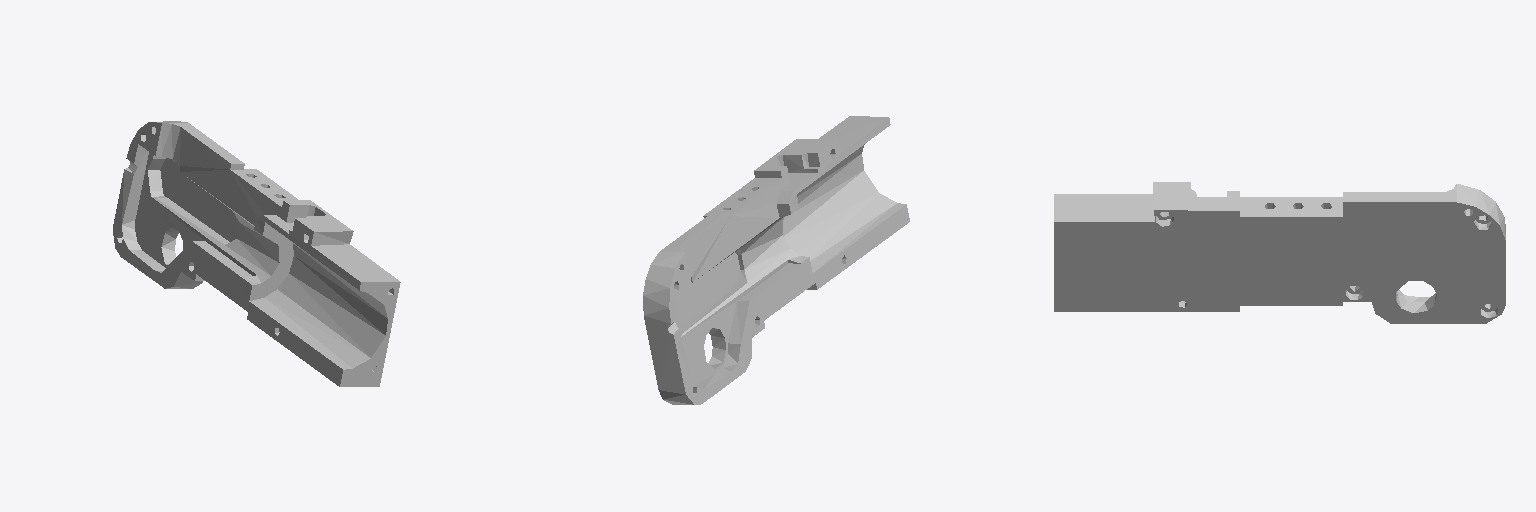
File: Gehaeuse_Zylinderkopf.obj
3 views of the same model, side by side, from view 1: azimuth 30°, elevation 25°; view 2: azimuth 150°, elevation 25°; view 3: azimuth 270°, elevation 25° (orthographic).
Visible parts, largest first — view 1: Pneumatikspanner.001; view 2: Pneumatikspanner.001; view 3: Pneumatikspanner.001.
Boxes of the visible parts, box(x1,y1,x2,y2) form: Pneumatikspanner.001: box(113, 121, 400, 386); Pneumatikspanner.001: box(643, 116, 909, 404); Pneumatikspanner.001: box(1054, 182, 1505, 323).
Size of the model in its own units: 0.0424 by 0.0842 by 0.2405.